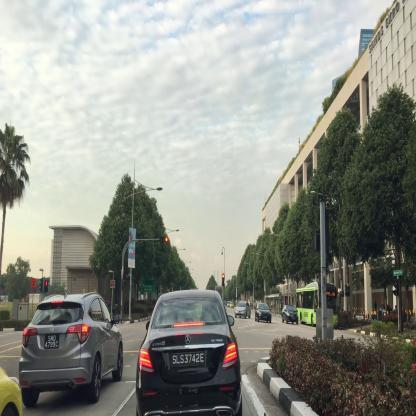red_traffic_light: (160, 237, 168, 241), (222, 273, 224, 286)
